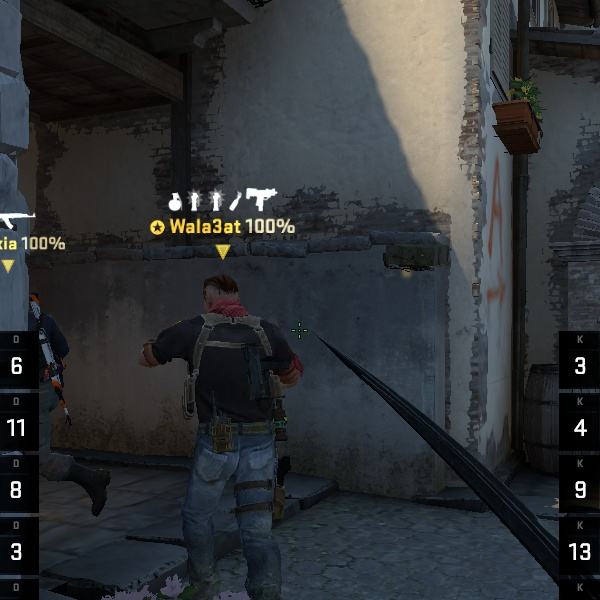ct_head: (185, 261, 262, 330)
t_body: (122, 268, 343, 525)
t_head: (187, 263, 260, 332)
